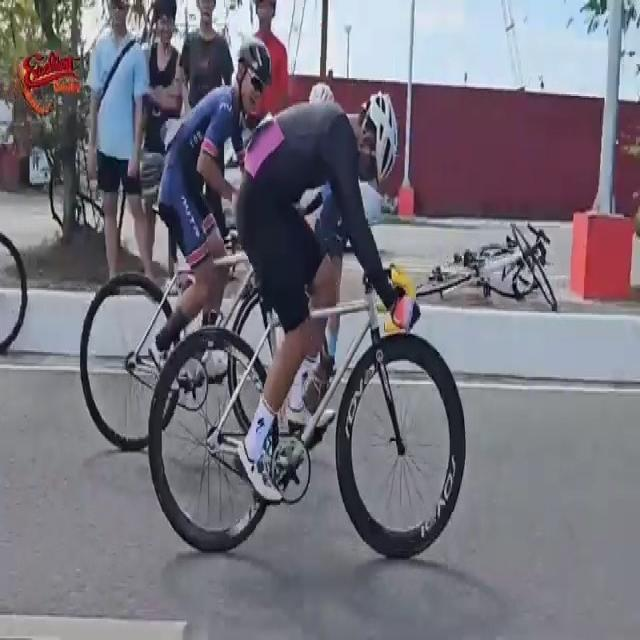bike: (146, 84, 467, 569), (79, 40, 322, 460), (0, 228, 30, 372)
